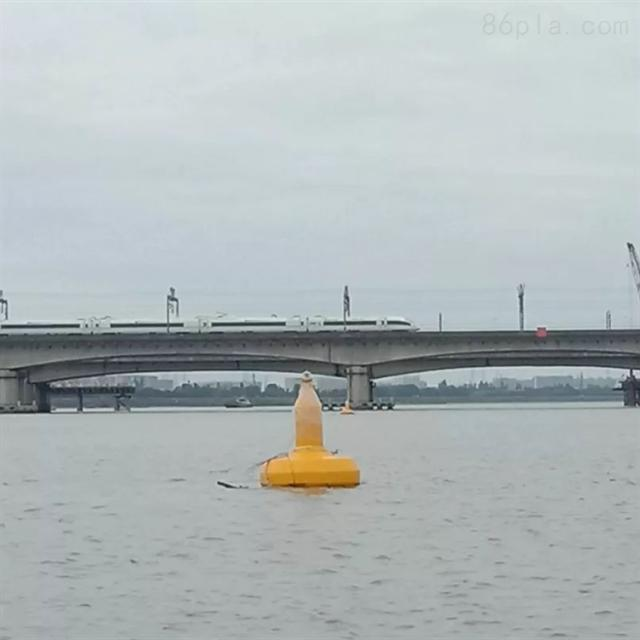buoy: (258, 367, 359, 492)
